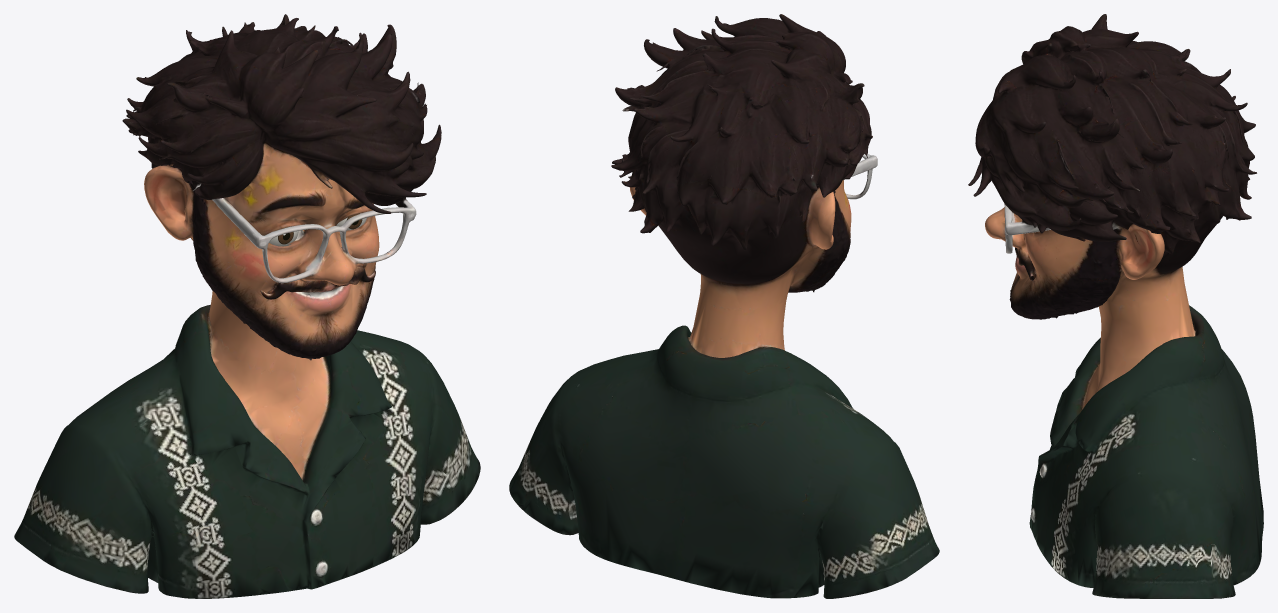
3 views of the same model, side by side, from view 1: azimuth 30°, elevation 25°; view 2: azimuth 150°, elevation 25°; view 3: azimuth 270°, elevation 25° (orthographic). The views are drawn at different scales.
Parts seen in each view (by area): view 1: BodhiAvatar; view 2: BodhiAvatar; view 3: BodhiAvatar.
Boxes of the visible parts, left/top/right/bottom form: BodhiAvatar: left=14, top=14, right=480, bottom=598; BodhiAvatar: left=509, top=14, right=939, bottom=598; BodhiAvatar: left=968, top=14, right=1263, bottom=598.
Size of the model in its own units: 1.3 by 1.52 by 0.833.
Materials: 6 (5 with a texture image).
